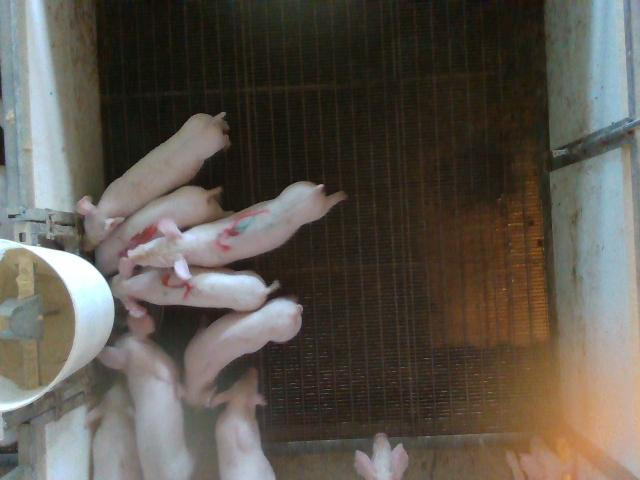pig-1: (95, 186, 231, 276)
pig-3: (128, 181, 345, 279)
pig-5: (111, 258, 279, 316)
